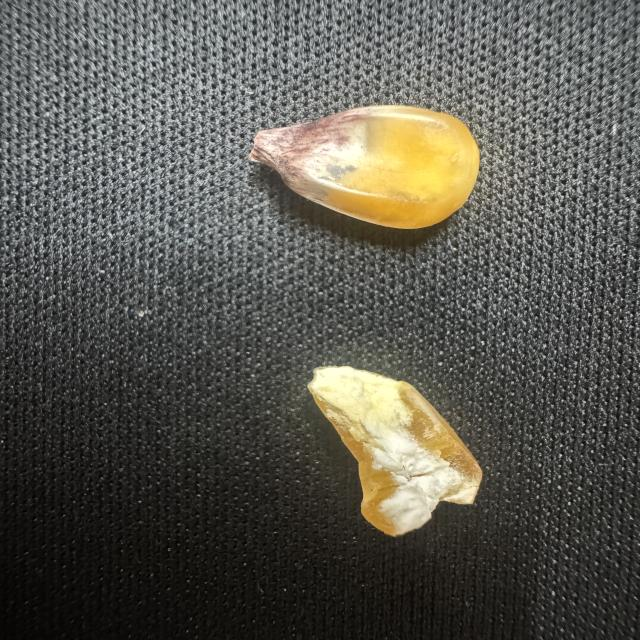Bad-Seed: (304, 360, 485, 538), (247, 100, 485, 234)
